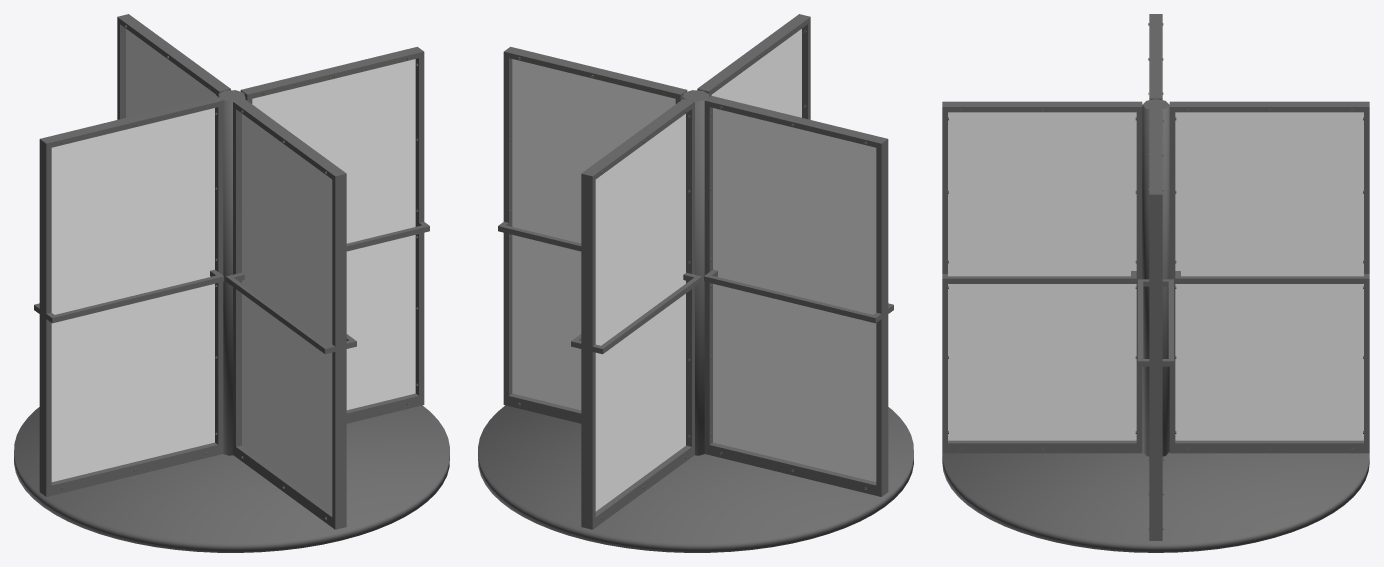
3 renders of one model, left to right at view 1: azimuth 30°, elevation 25°; view 2: azimuth 150°, elevation 25°; view 3: azimuth 270°, elevation 25°, orthographic. The views are drawn at different scales.
Parts seen in each view (by area): view 1: Spiegel.001, Podest, Spiegel.003, Spiegel, Längs-Links.007, Längs-Links.003, Spiegel.002, Pfosten, Längs-Links.001, Längs-Links.002, Längs-Links.006, Unten-Quer.001 (+10 smaller); view 2: Spiegel.001, Podest, Spiegel.002, Spiegel, Längs-Links.005, Längs-Links.003, Spiegel.003, Pfosten, Längs-Links.001, Längs-Links.002, Längs-Links.004, Unten-Quer.001 (+10 smaller); view 3: Spiegel.002, Spiegel.003, Podest, Pfosten, Längs-Links.001, Unten-Quer.003, Unten-Quer.002, Oben-Quer.003, Oben-Quer.002, Längs-Links.005, Längs-Links.007, Längs-Links.004 (+7 smaller).
Boxes of the visible parts, <box> form: Spiegel.001: <box>51,108,214,481</box>; Podest: <box>14,405,449,552</box>; Spiegel.003: <box>242,114,332,511</box>; Spiegel: <box>252,59,415,410</box>; Längs-Links.007: <box>332,171,346,529</box>; Längs-Links.003: <box>39,137,51,496</box>; Spiegel.002: <box>126,29,216,117</box>; Pfosten: <box>218,90,245,455</box>; Längs-Links.001: <box>413,46,424,405</box>; Längs-Links.002: <box>212,96,223,454</box>; Längs-Links.006: <box>233,99,246,456</box>; Unten-Quer.001: <box>51,442,218,495</box>; Spiegel.001: <box>713,108,876,481</box>; Podest: <box>478,405,913,552</box>; Spiegel.002: <box>595,114,685,511</box>; Spiegel: <box>512,59,675,410</box>; Längs-Links.005: <box>581,171,595,529</box>; Längs-Links.003: <box>876,137,888,496</box>; Spiegel.003: <box>711,29,801,117</box>; Pfosten: <box>682,90,709,455</box>; Längs-Links.001: <box>503,46,514,405</box>; Längs-Links.002: <box>704,96,715,454</box>; Längs-Links.004: <box>681,99,694,456</box>; Unten-Quer.001: <box>709,442,876,495</box>; Spiegel.002: <box>1175,112,1363,440</box>; Spiegel.003: <box>948,112,1136,440</box>; Podest: <box>942,452,1369,552</box>; Pfosten: <box>1142,99,1169,456</box>; Längs-Links.001: <box>1149,192,1162,540</box>; Unten-Quer.003: <box>948,440,1136,453</box>; Unten-Quer.002: <box>1175,440,1363,453</box>; Oben-Quer.003: <box>948,101,1136,112</box>; Oben-Quer.002: <box>1175,101,1363,112</box>; Längs-Links.005: <box>1364,101,1369,453</box>; Längs-Links.007: <box>942,101,947,453</box>; Längs-Links.004: <box>1169,101,1175,453</box>.
Size of the model in its own units: 23.49 by 21.73 by 23.49.
Materials: 11 (2 with a texture image).
